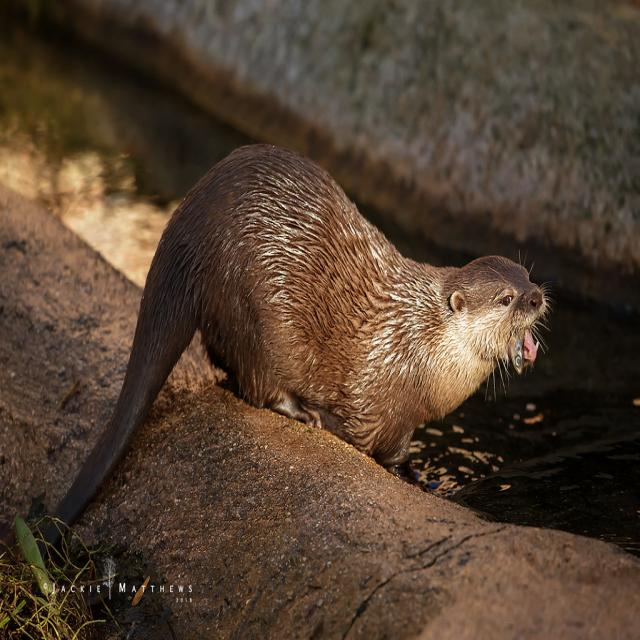otter: (128, 146, 545, 428)
